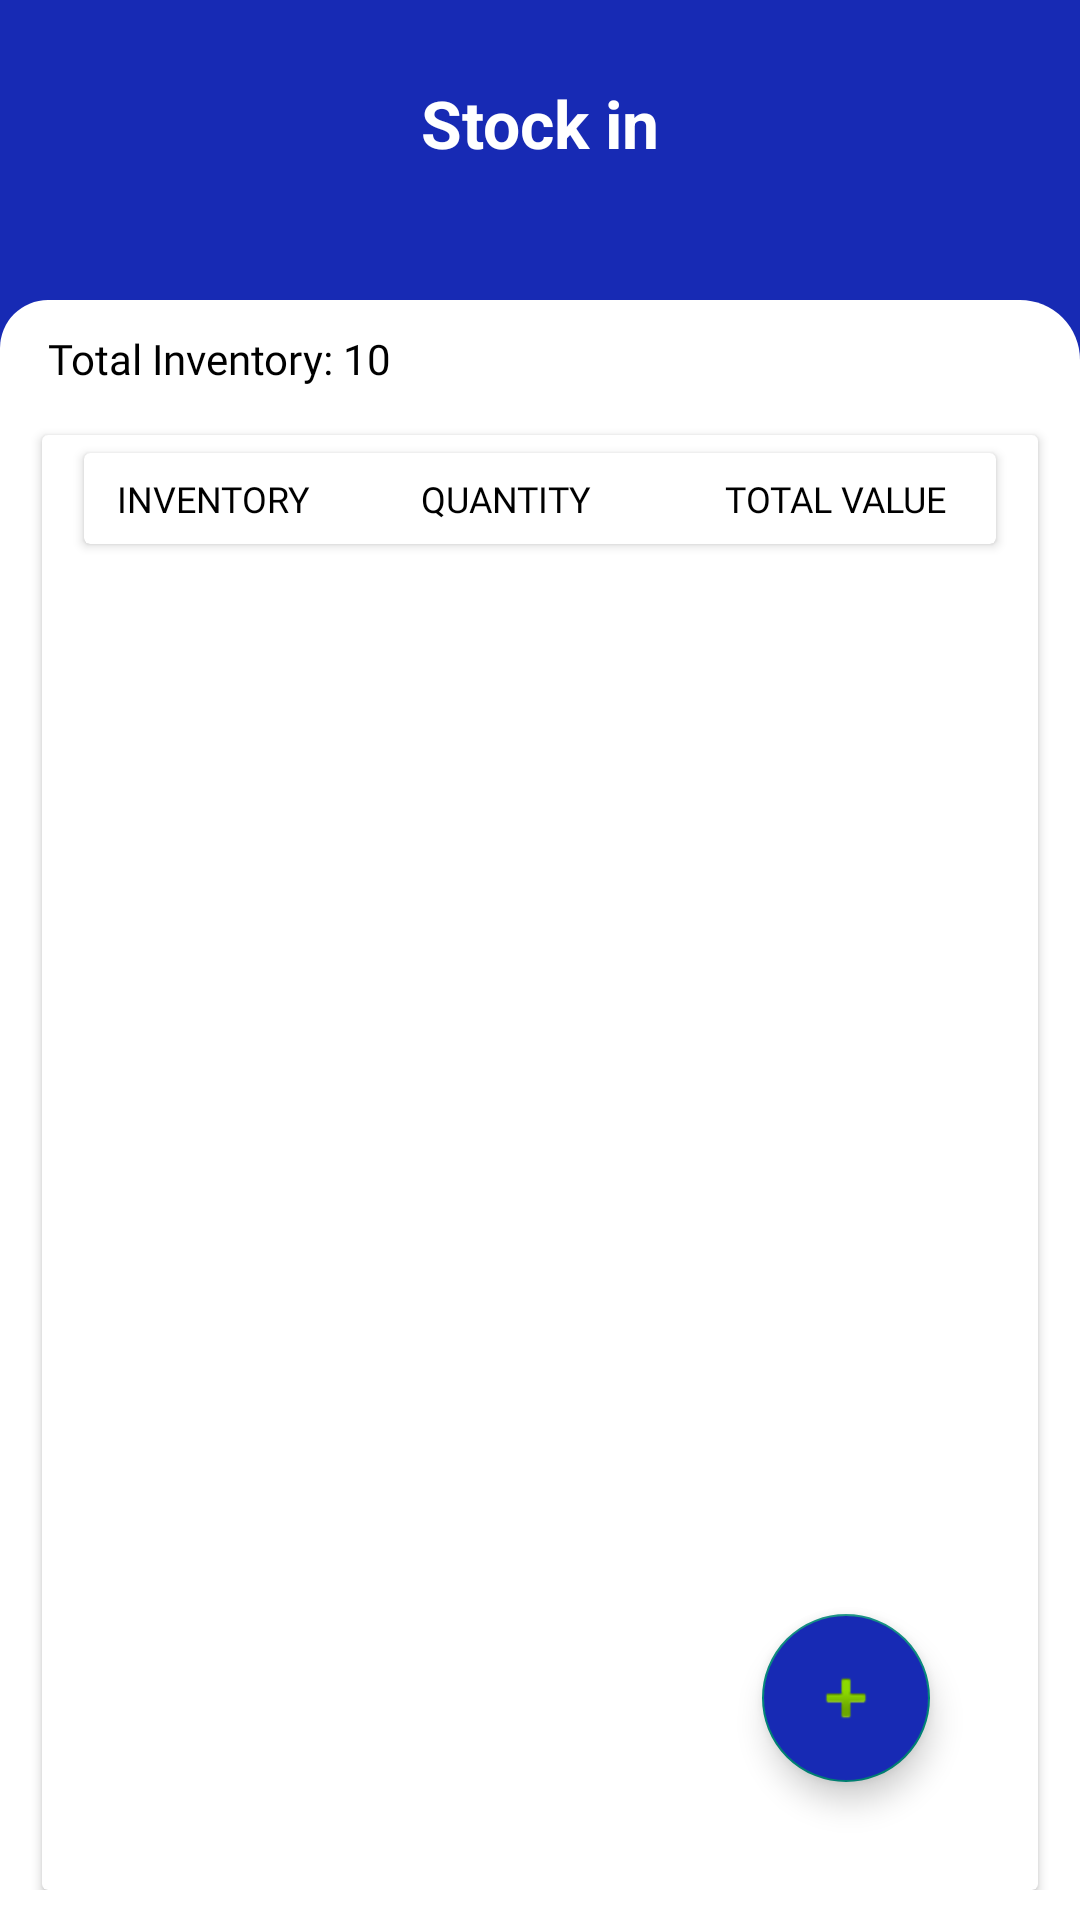

Named icons in this screenshot (1080px x 1920px) and their bounding boxes, (left=x1, top=y1, right=x2, bottom=y2):
add: (left=762, top=1614, right=930, bottom=1782)
